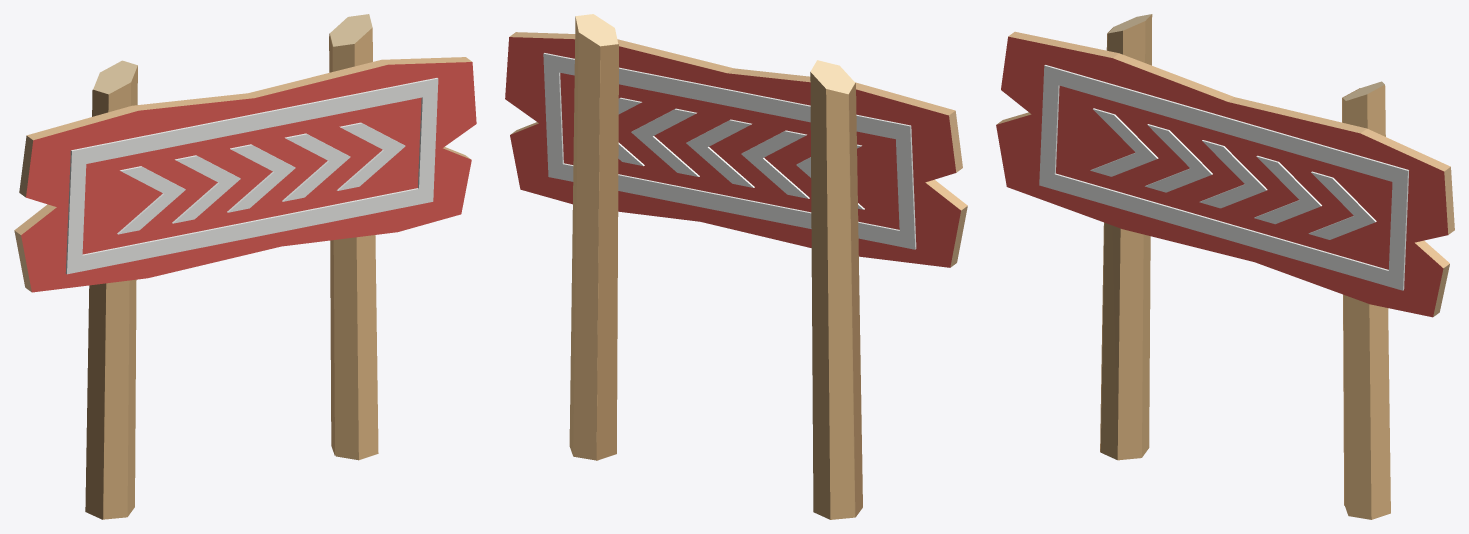
File: Pancarte_Rouge.fbx
3 views of the same model, side by side, from view 1: azimuth 30°, elevation 25°; view 2: azimuth 150°, elevation 25°; view 3: azimuth 330°, elevation 25° (orthographic).
Visible parts, largest first — view 1: Pancarte_Rouge; view 2: Pancarte_Rouge; view 3: Pancarte_Rouge.
Part boxes in pixels (box(x1,y1,x2,y2)): Pancarte_Rouge: box(14, 14, 476, 519); Pancarte_Rouge: box(505, 14, 967, 519); Pancarte_Rouge: box(996, 14, 1454, 519).
Bounding box in the file's own units: 2.73 × 2.53 × 0.3488.
